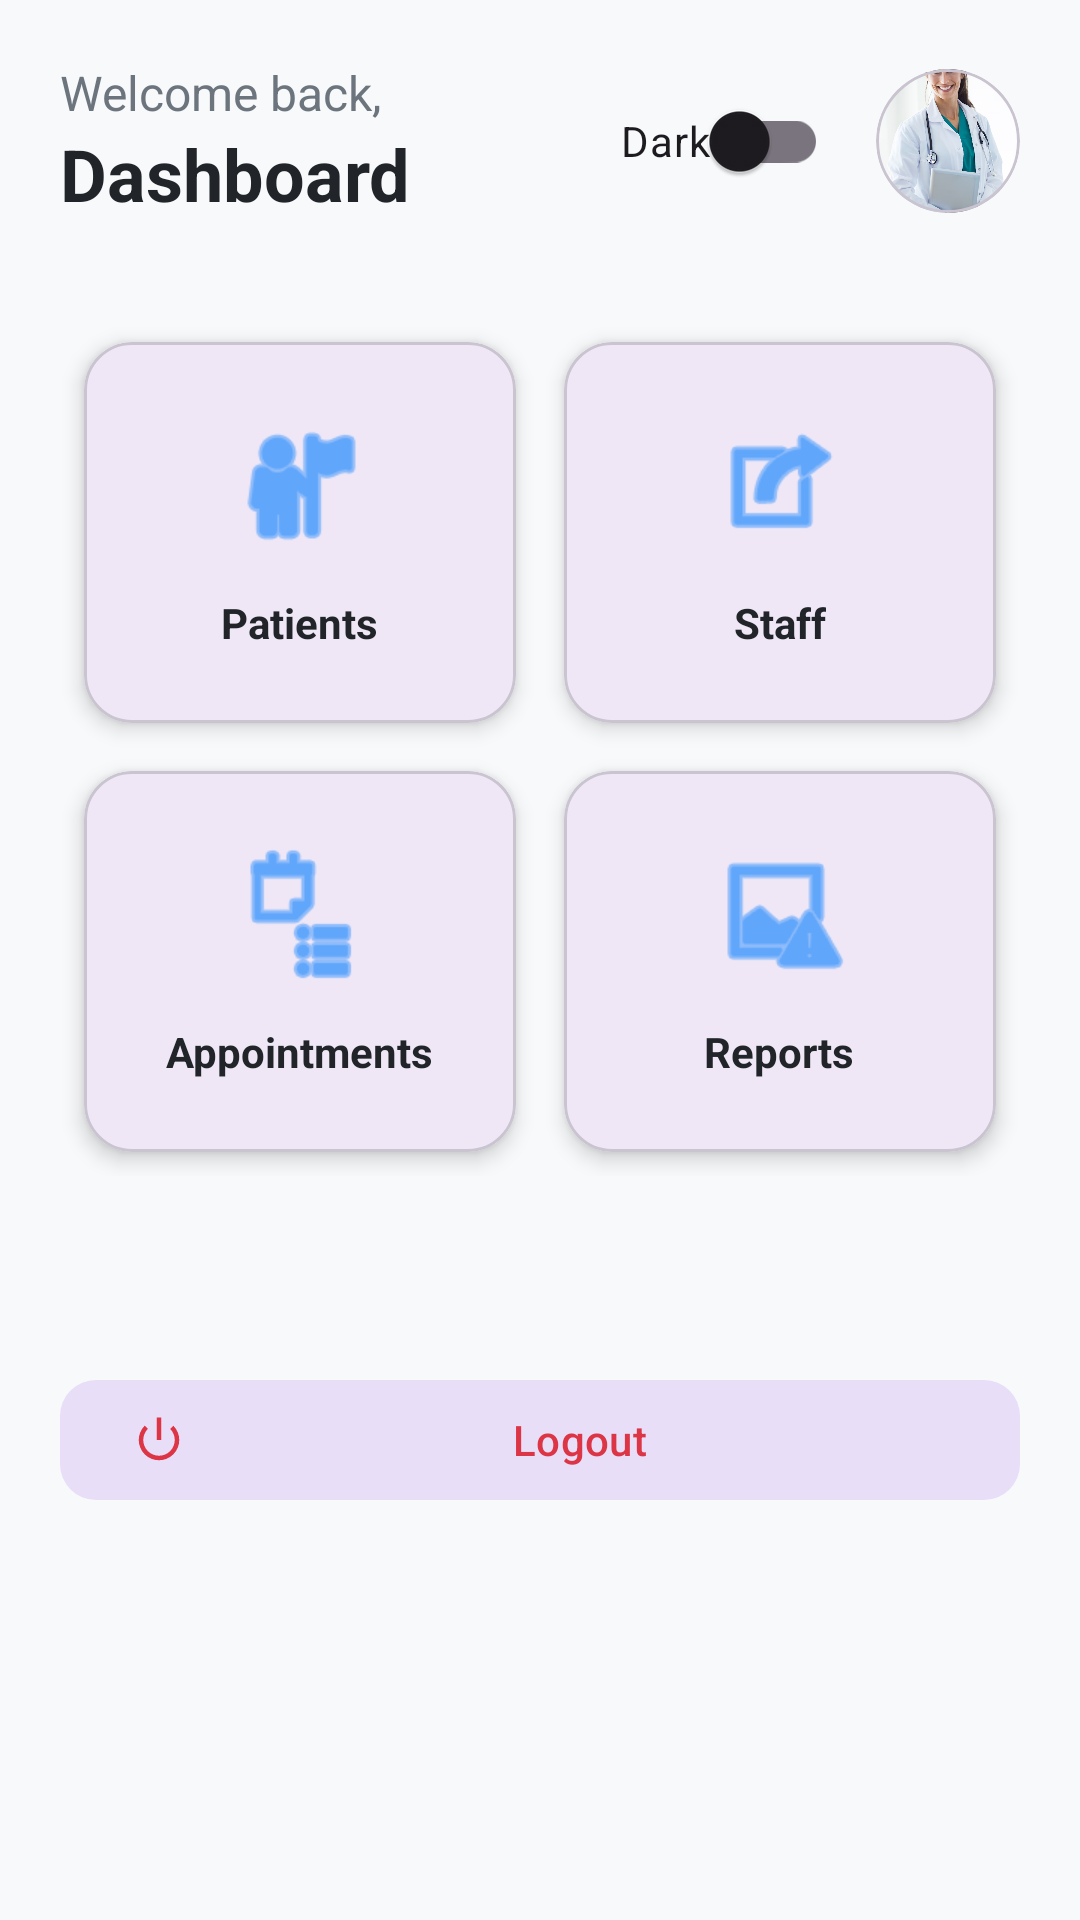

Named icons in this screenshot (1080×1920) and their bounding boxes, [x1, y1, x2, y2]:
agenda: [250, 850, 351, 978]
set as: [730, 434, 832, 528]
